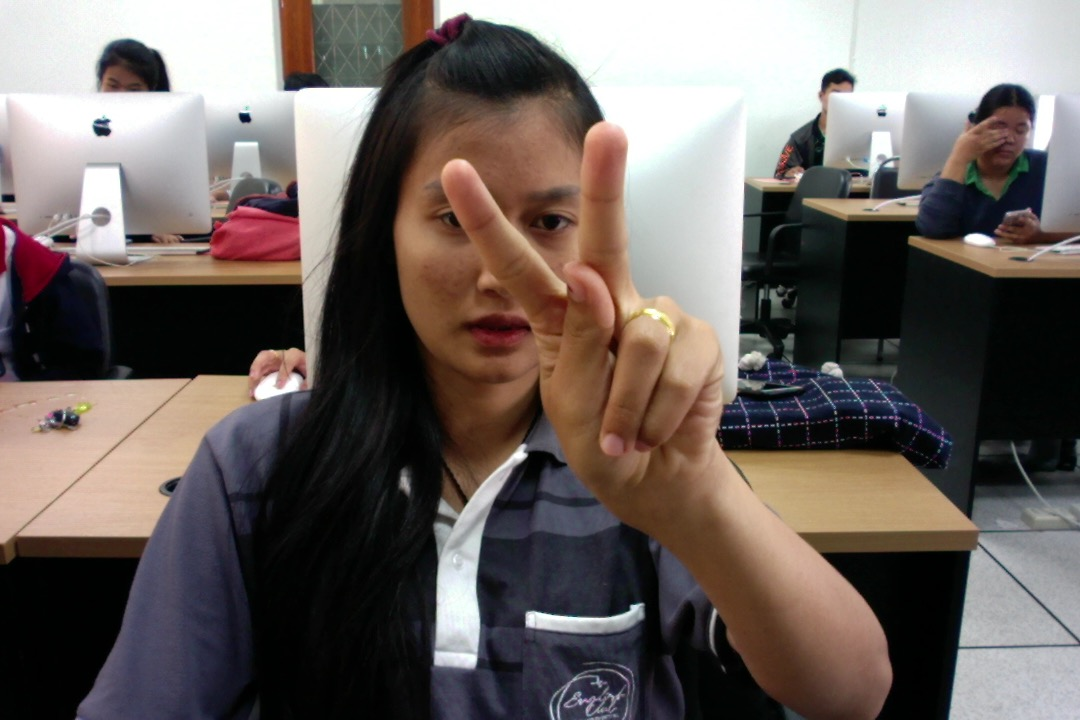ko: (428, 103, 731, 539)
